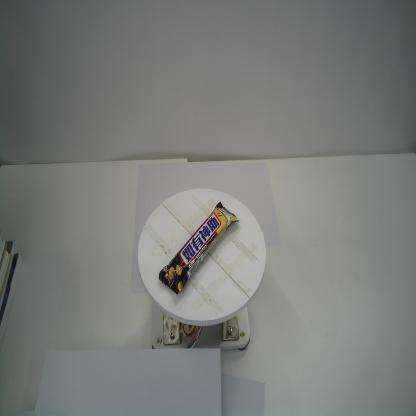Chocolate: (158, 201, 240, 296)
